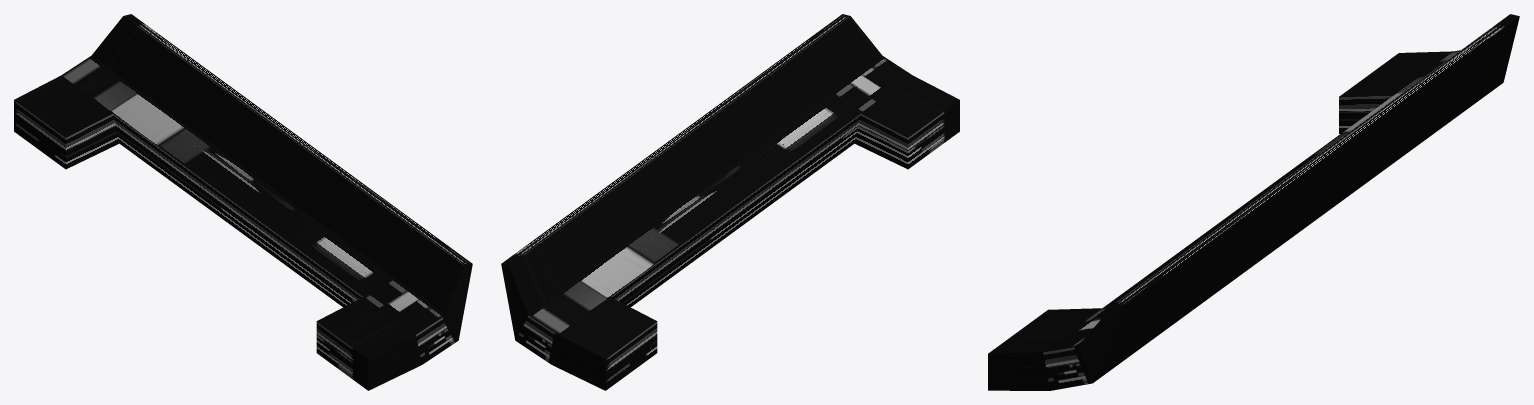
The model's file is spoiler1.DAE.
3 renders of one model, left to right at view 1: azimuth 30°, elevation 25°; view 2: azimuth 150°, elevation 25°; view 3: azimuth 330°, elevation 25°, orthographic. The views are drawn at different scales.
Parts seen in each view (by area): view 1: spoiler1; view 2: spoiler1; view 3: spoiler1.
Boxes of the visible parts, x1,y1,x2,y2 form: spoiler1: (14,14,472,390); spoiler1: (501,14,959,390); spoiler1: (988,14,1519,390).
Size of the model in its own units: 17.76 by 98.3 by 14.6.
Materials: 1 (1 with a texture image).
